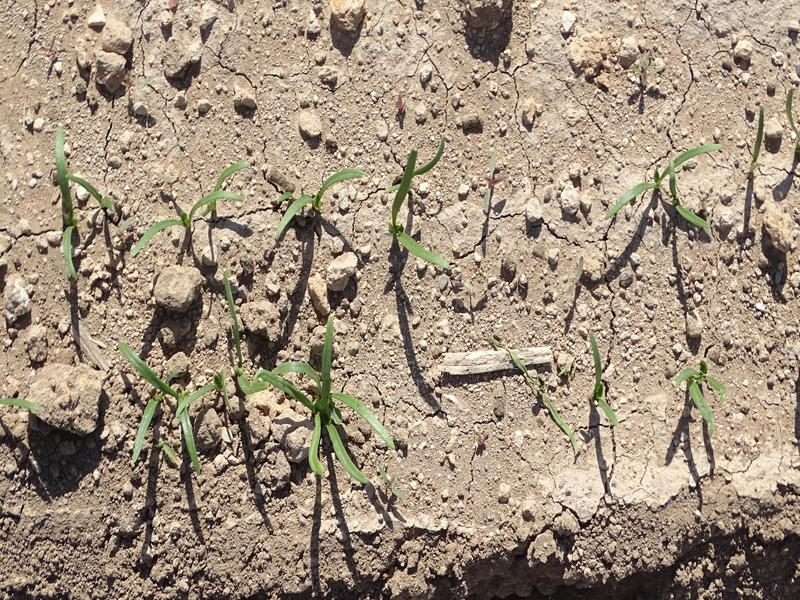Espinaca: (262, 322, 401, 490), (117, 325, 229, 468), (135, 159, 255, 253), (611, 139, 715, 231), (48, 131, 116, 271), (388, 146, 449, 263), (278, 163, 362, 235), (675, 359, 729, 434), (587, 330, 618, 428)
